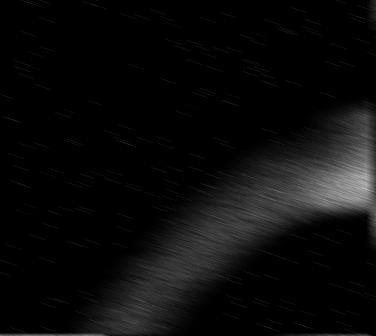Airbag: (0, 0, 375, 336), (158, 335, 376, 336)
